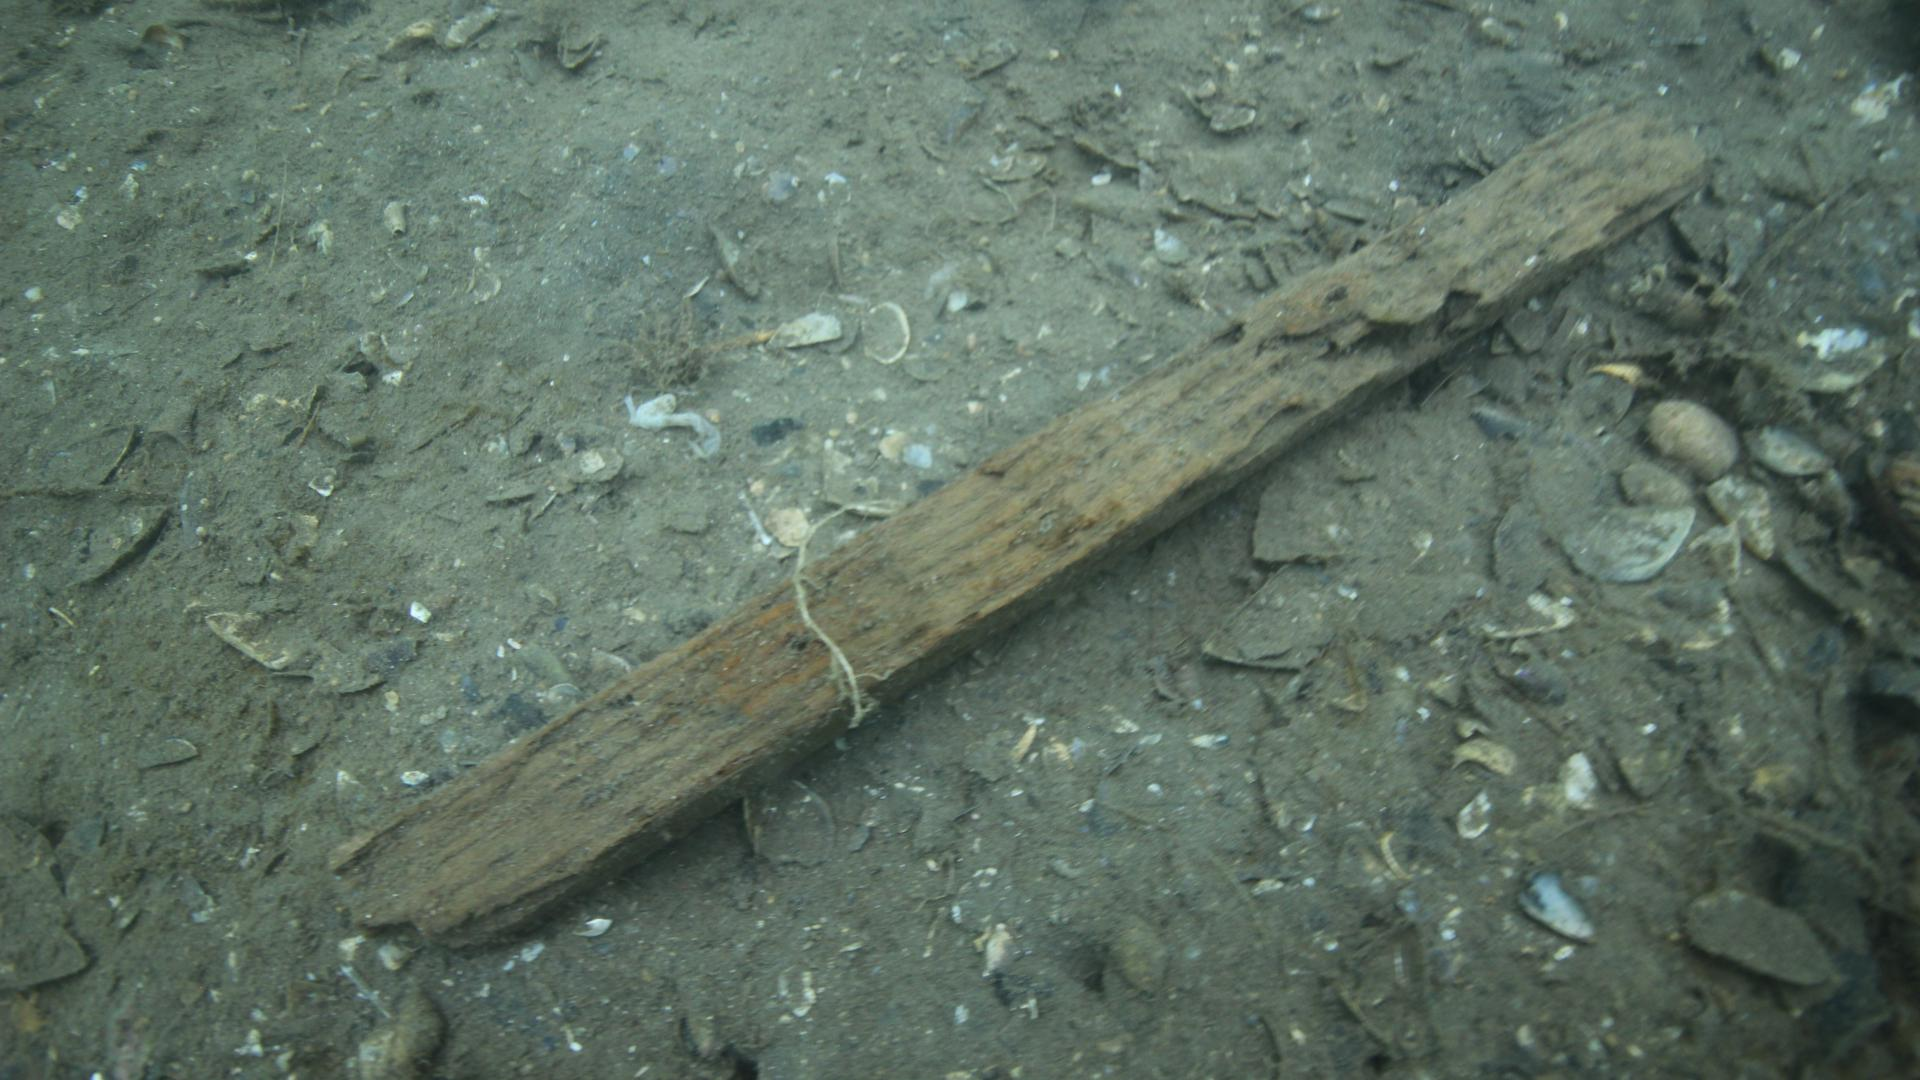wood: (323, 94, 1708, 949)
